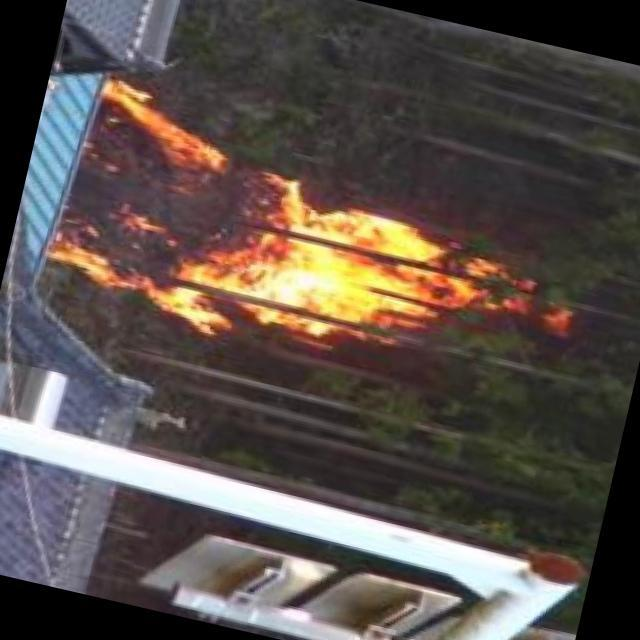Fire: (51, 92, 565, 402)
